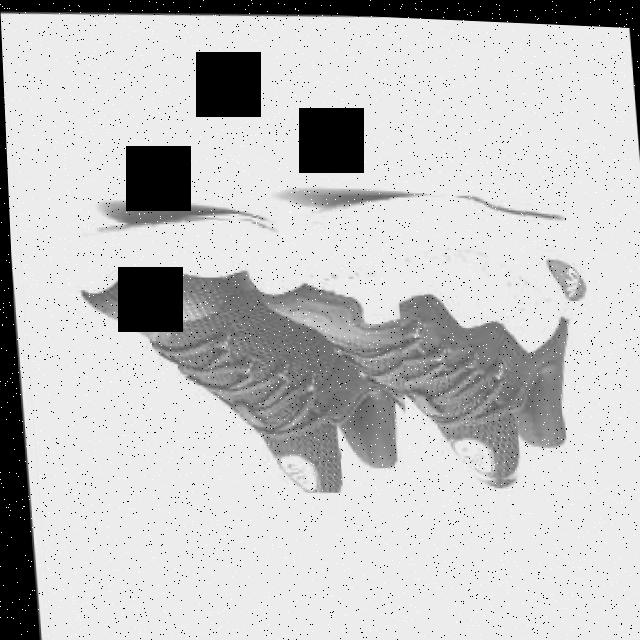shoe: (238, 179, 603, 495), (62, 200, 411, 501)
